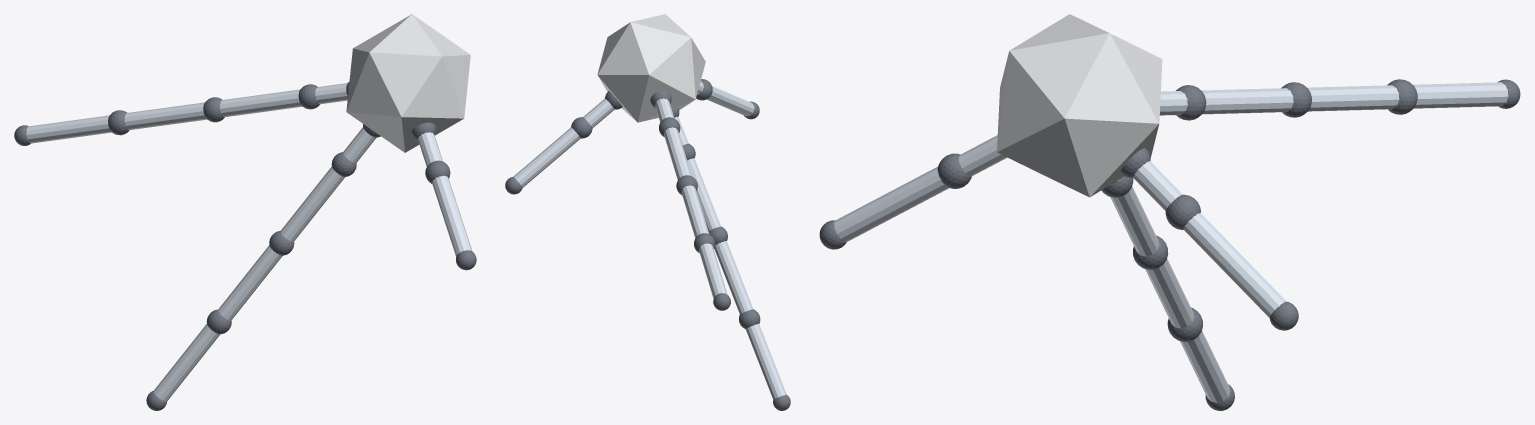
File: g0_4422_1_abs.glb
3 views of the same model, side by side, from view 1: azimuth 30°, elevation 25°; view 2: azimuth 150°, elevation 25°; view 3: azimuth 270°, elevation 25° (orthographic). The views are drawn at different scales.
Parts seen in each view (by area): view 1: geom_0, geom_13, geom_22, geom_11, geom_9, geom_20, geom_18, geom_4, geom_7, geom_16, geom_2, geom_10 (+2 smaller); view 2: geom_0, geom_27, geom_13, geom_11, geom_22, geom_9, geom_18, geom_20, geom_4, geom_25, geom_26, geom_12 (+1 smaller); view 3: geom_0, geom_27, geom_4, geom_22, geom_18, geom_20, geom_13, geom_11, geom_9, geom_25, geom_2, geom_26 (+6 smaller).
Boxes of the visible parts, bbox=[...] form: geom_0: bbox=[346, 14, 470, 152]; geom_13: bbox=[153, 324, 219, 401]; geom_22: bbox=[26, 115, 111, 143]; geom_11: bbox=[218, 245, 282, 320]; geom_9: bbox=[280, 166, 344, 241]; geom_20: bbox=[124, 102, 206, 130]; geom_18: bbox=[220, 89, 301, 117]; geom_4: bbox=[432, 175, 472, 256]; geom_7: bbox=[342, 127, 376, 163]; geom_16: bbox=[315, 83, 347, 104]; geom_2: bbox=[417, 132, 442, 166]; geom_10: bbox=[269, 230, 294, 255]; geom_0: bbox=[597, 14, 705, 122]; geom_27: bbox=[513, 127, 580, 187]; geom_13: bbox=[745, 324, 786, 399]; geom_11: bbox=[714, 241, 753, 314]; geom_22: bbox=[699, 243, 727, 298]; geom_9: bbox=[687, 158, 720, 230]; geom_18: bbox=[664, 127, 691, 180]; geom_20: bbox=[681, 185, 709, 238]; geom_4: bbox=[706, 86, 754, 116]; geom_25: bbox=[583, 98, 614, 127]; geom_26: bbox=[571, 117, 592, 138]; geom_12: bbox=[739, 309, 760, 328]; geom_0: bbox=[997, 14, 1162, 197]; geom_27: bbox=[1183, 212, 1286, 317]; geom_4: bbox=[833, 166, 948, 241]; geom_22: bbox=[1413, 82, 1508, 108]; geom_18: bbox=[1201, 88, 1293, 114]; geom_20: bbox=[1307, 85, 1399, 111]; geom_13: bbox=[1180, 331, 1230, 402]; geom_11: bbox=[1145, 258, 1194, 328]; geom_9: bbox=[1110, 186, 1159, 256]; geom_25: bbox=[1133, 161, 1182, 211]; geom_2: bbox=[958, 135, 1006, 176]; geom_26: bbox=[1165, 194, 1200, 229].
Bounding box in the file's own units: 0.4507 × 0.4717 × 0.5702.
